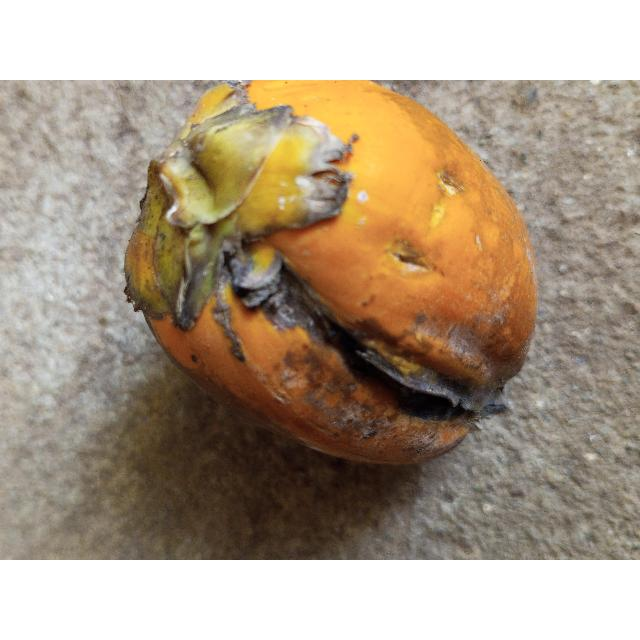damaged: (125, 80, 537, 463)
